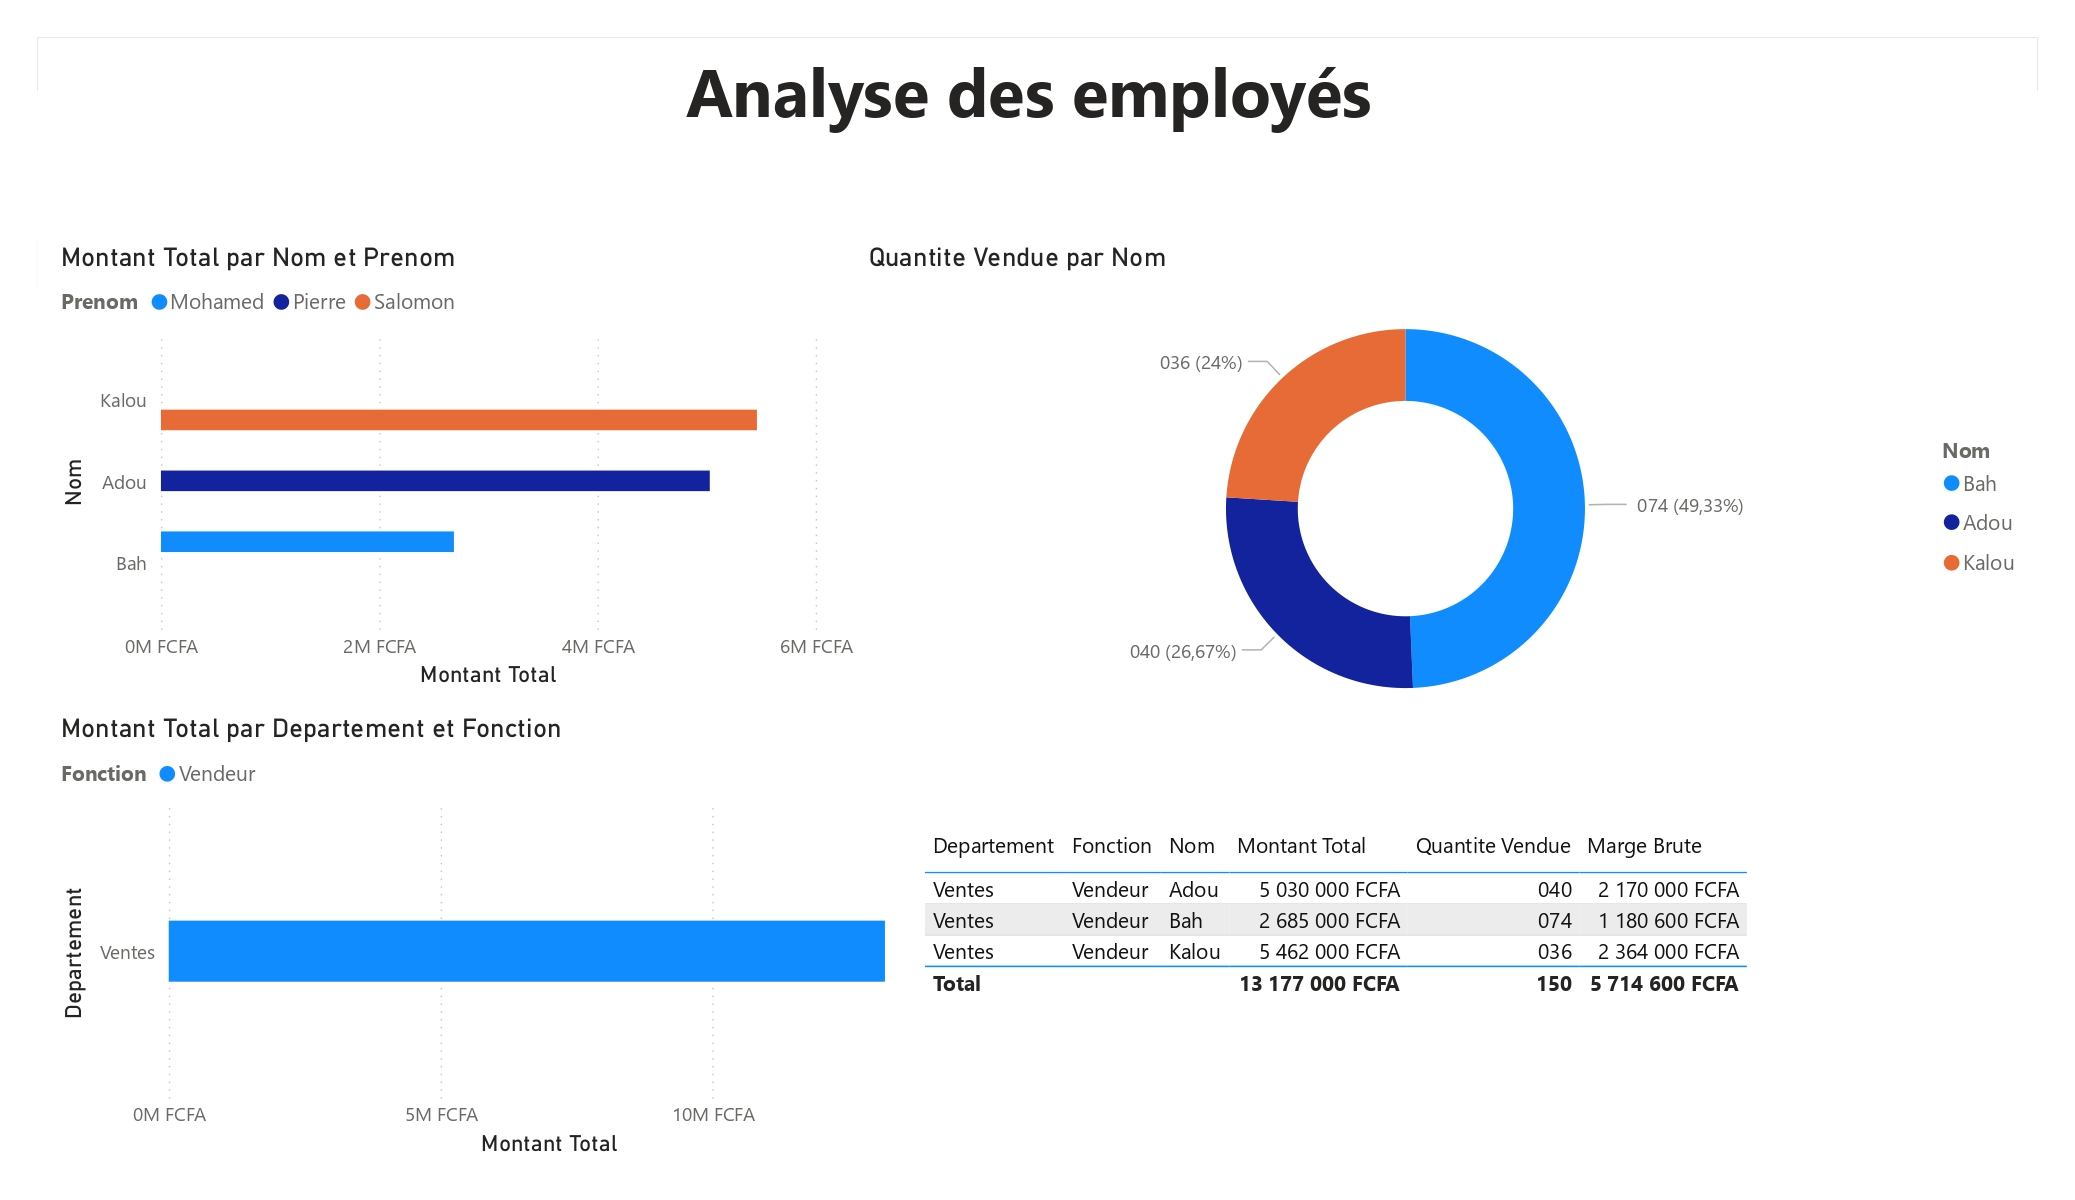

What the dashboard file says about the page in this screenshot:
{"tool":"powerbi","page":{"name":"Analyse des employés","canvas":[1280,720],"ordinal":5},"visuals":[{"type":"clusteredBarChart","fields":{"Category":["DIM EMPLOYE.Nom"],"Series":["DIM EMPLOYE.Prenom"],"Y":["FAIT VENTES.Montant Total"]},"box":[10.5,130,516.8,291.3],"z":0},{"type":"barChart","fields":{"Category":["DIM EMPLOYE.Departement"],"Series":["DIM EMPLOYE.Fonction"],"Y":["FAIT VENTES.Montant Total"]},"box":[10.1,431.7,593,288.9],"z":1000},{"type":"tableEx","fields":{"Values":["DIM EMPLOYE.Hiérarchie.Departement","DIM EMPLOYE.Hiérarchie.Fonction","DIM EMPLOYE.Hiérarchie.Nom","FAIT VENTES.Montant Total","FAIT VENTES.Quantite Vendue","FAIT VENTES.Marge Brute"]},"box":[561.7,501.9,718.5,144.9],"z":2000},{"type":"donutChart","fields":{"Category":["DIM EMPLOYE.Nom"],"Y":["FAIT VENTES.Quantite Vendue"]},"box":[527.3,130,752.9,324.1],"z":3000},{"type":"textbox","box":[0,0,1280.2,130],"z":4000}]}

Visuals, with their boxes on the page's 1280x720 design canvas (x1, y1, x2, y2). These are canvas units, not pixel positions in the 2075x1200 screenshot, which may show the page scaled, cropped or inside an application window:
clusteredBarChart - DIM EMPLOYE.Nom x DIM EMPLOYE.Prenom: [10, 130, 527, 421]
barChart - DIM EMPLOYE.Departement x DIM EMPLOYE.Fonction: [10, 432, 603, 721]
tableEx - DIM EMPLOYE.Hiérarchie.Departement x DIM EMPLOYE.Hiérarchie.Fonction: [562, 502, 1280, 647]
donutChart - DIM EMPLOYE.Nom x FAIT VENTES.Quantite Vendue: [527, 130, 1280, 454]
textbox: [0, 0, 1280, 130]
